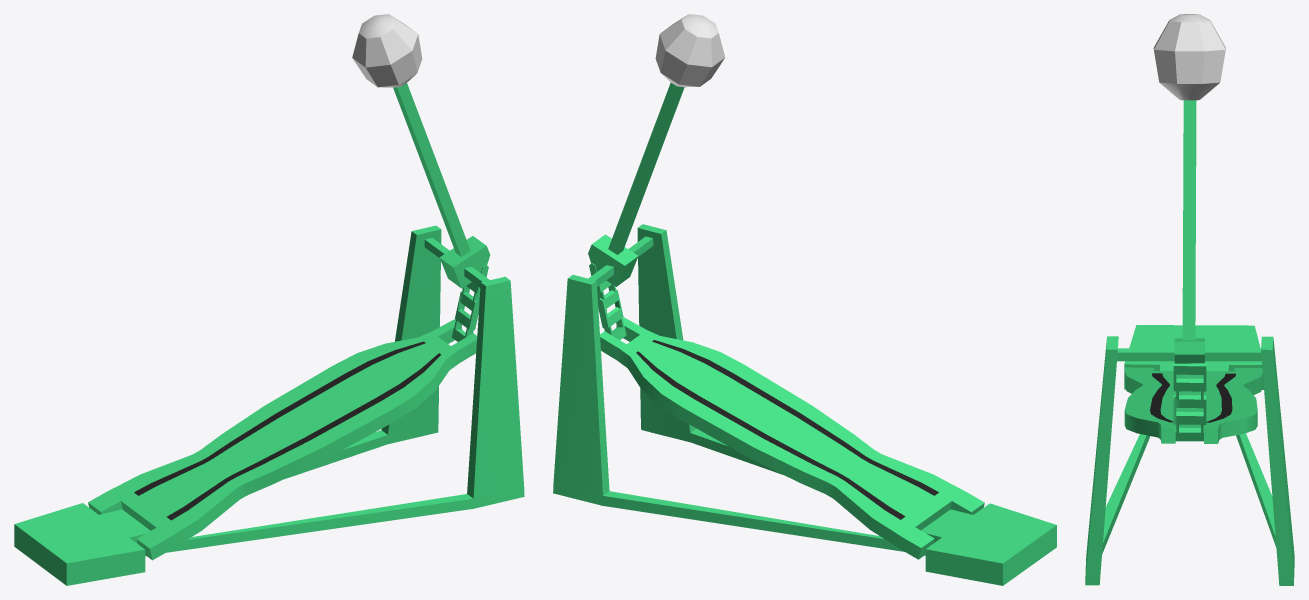
The model's file is Drumkit_Bass_Pedal_LP.fbx.
3 renders of one model, left to right at view 1: azimuth 30°, elevation 25°; view 2: azimuth 150°, elevation 25°; view 3: azimuth 270°, elevation 25°, orthographic. The views are drawn at different scales.
Visible parts, largest first — view 1: Pedal_LP; view 2: Pedal_LP; view 3: Pedal_LP.
Part boxes in pixels (box(x1,y1,x2,y2)): Pedal_LP: box(14, 14, 524, 585); Pedal_LP: box(553, 14, 1056, 585); Pedal_LP: box(1085, 14, 1294, 585).
Size of the model in its own units: 2499 by 2534 by 928.
